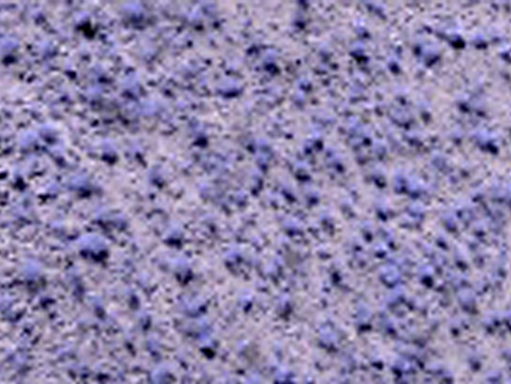agave: (72, 228, 117, 265), (16, 253, 55, 293), (158, 210, 195, 252), (60, 171, 103, 199), (250, 48, 287, 79), (168, 249, 197, 286), (364, 195, 399, 224), (66, 8, 102, 36), (476, 124, 505, 158), (346, 115, 375, 149), (17, 125, 52, 153), (418, 37, 449, 68), (314, 325, 344, 356), (96, 133, 122, 168), (319, 144, 348, 175), (194, 329, 224, 358), (351, 299, 377, 332), (378, 259, 407, 288), (217, 241, 247, 269), (367, 160, 395, 190), (120, 1, 151, 28), (399, 196, 426, 226), (388, 163, 413, 195), (438, 24, 469, 49), (185, 121, 212, 147), (290, 157, 319, 181), (233, 286, 259, 312), (300, 182, 325, 209), (132, 305, 155, 334), (1, 35, 23, 65), (439, 207, 464, 233), (406, 172, 430, 199), (415, 96, 439, 123), (34, 119, 62, 142), (347, 37, 371, 63), (245, 167, 268, 194), (350, 15, 377, 38), (216, 79, 248, 98), (381, 51, 407, 74), (270, 363, 298, 384), (456, 284, 478, 310), (370, 236, 393, 260), (470, 27, 493, 51), (126, 136, 149, 160), (391, 83, 416, 105), (415, 263, 438, 286), (275, 181, 298, 204), (281, 216, 305, 238), (431, 230, 455, 249), (453, 87, 472, 111), (486, 305, 507, 326), (29, 5, 51, 25), (276, 293, 295, 315), (37, 42, 59, 61), (59, 58, 81, 77), (296, 72, 316, 92), (254, 136, 273, 156), (310, 130, 329, 149), (291, 86, 309, 106), (428, 361, 448, 379), (485, 366, 504, 384), (480, 315, 496, 333)
